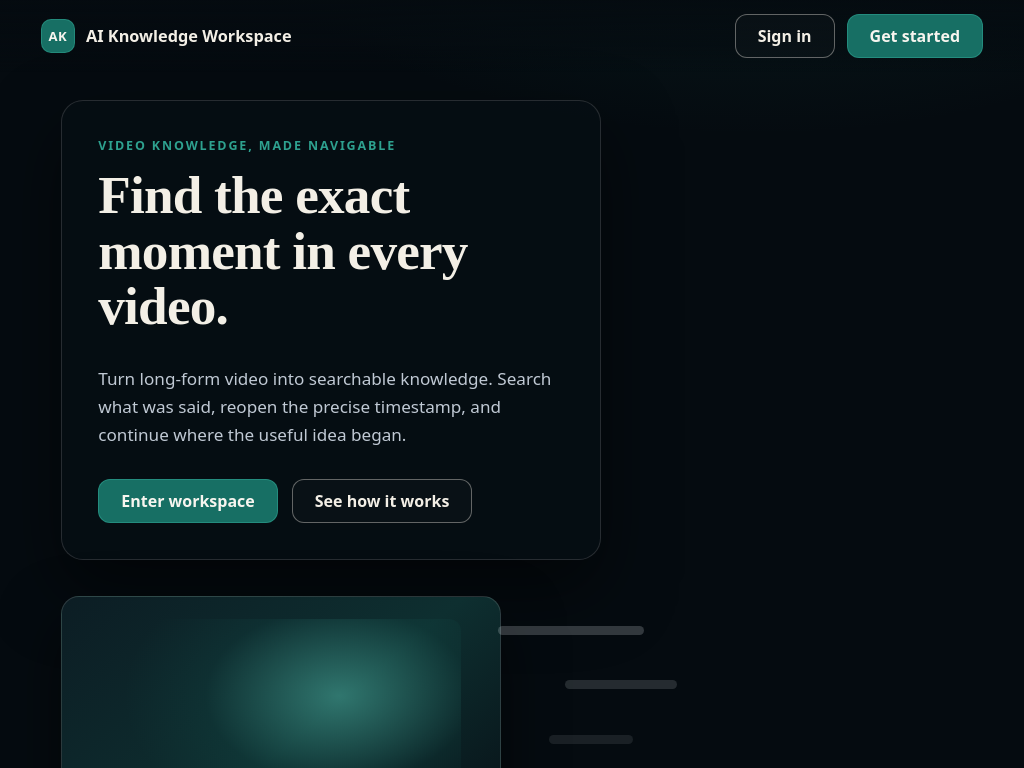
Test: auth mode UI boundary › navigates between the signed-out landing, login, and registration routes
Click the link "Get started": click(915, 36) [846,14,983,58]
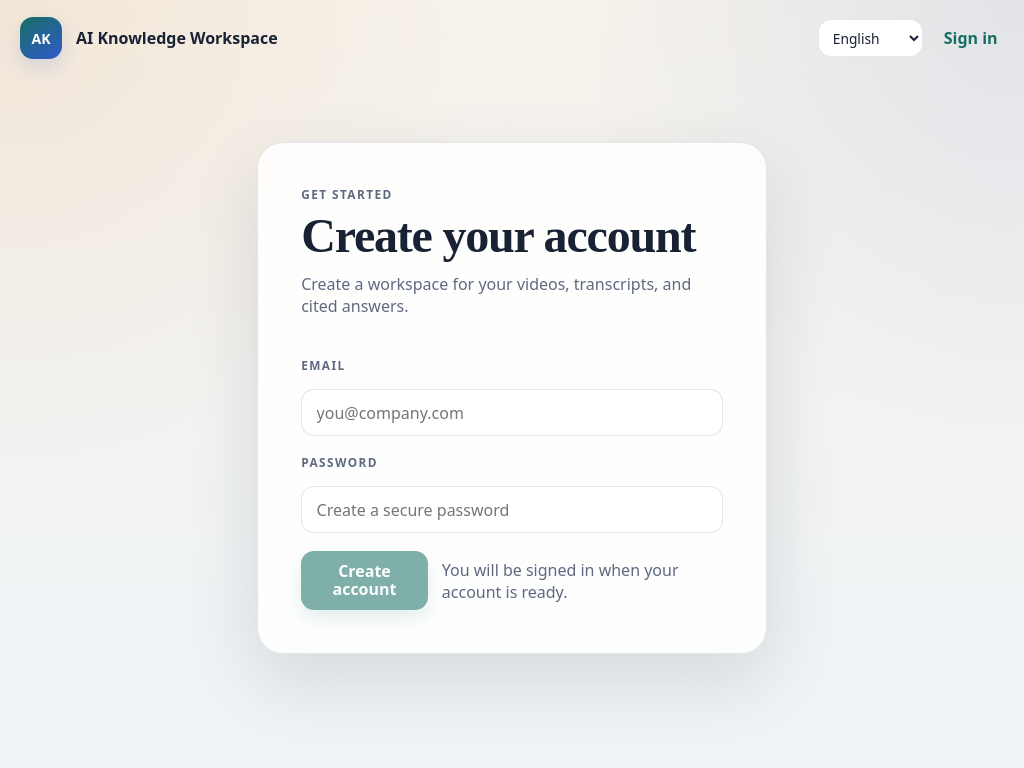
Now the heading "Create your account" is shown, box [301,208,723,263]
Click the button "Sign in": click(971, 38) [937,21,1004,55]
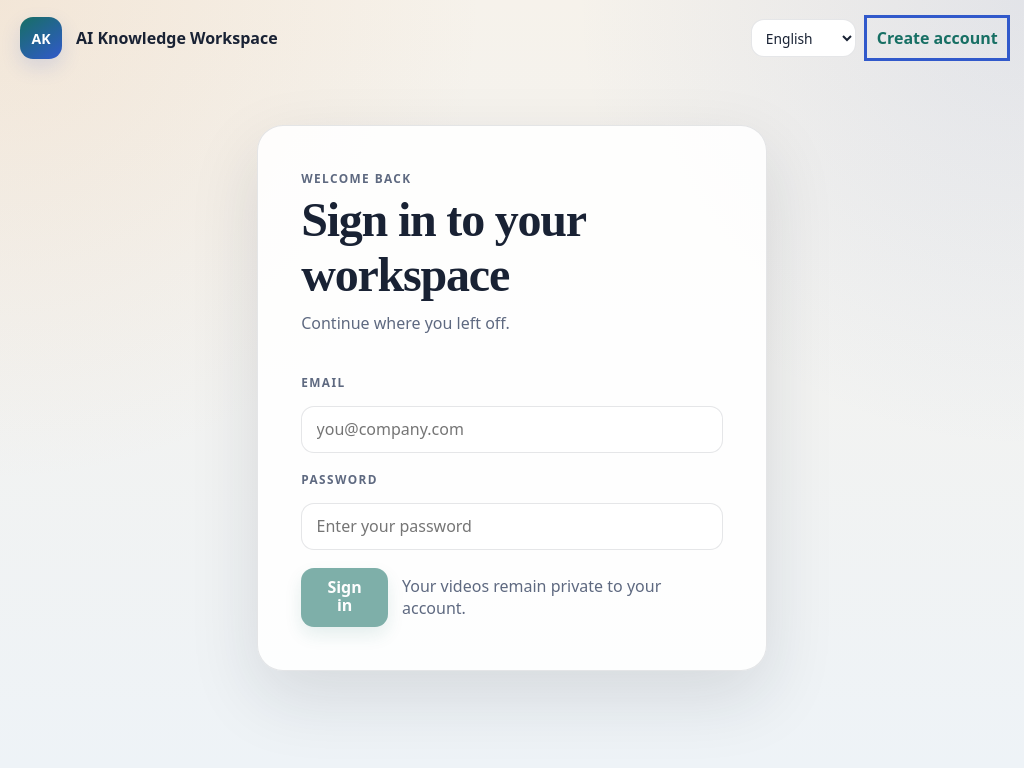
Now the heading "Sign in to your workspace" is shown, box [301,192,585,300]
